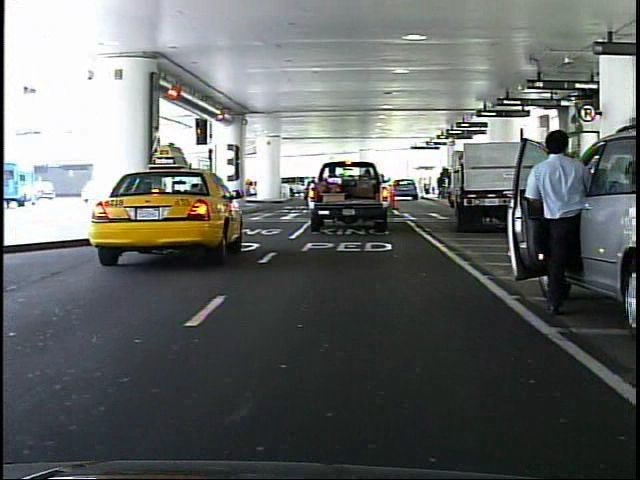person: (525, 125, 595, 319), (213, 168, 232, 213)
